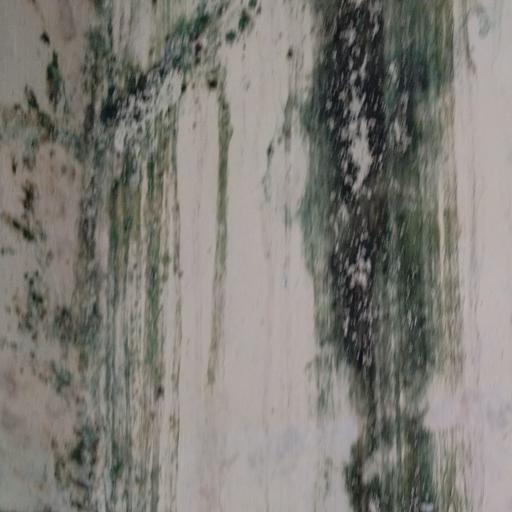algae: (22, 2, 512, 512)
